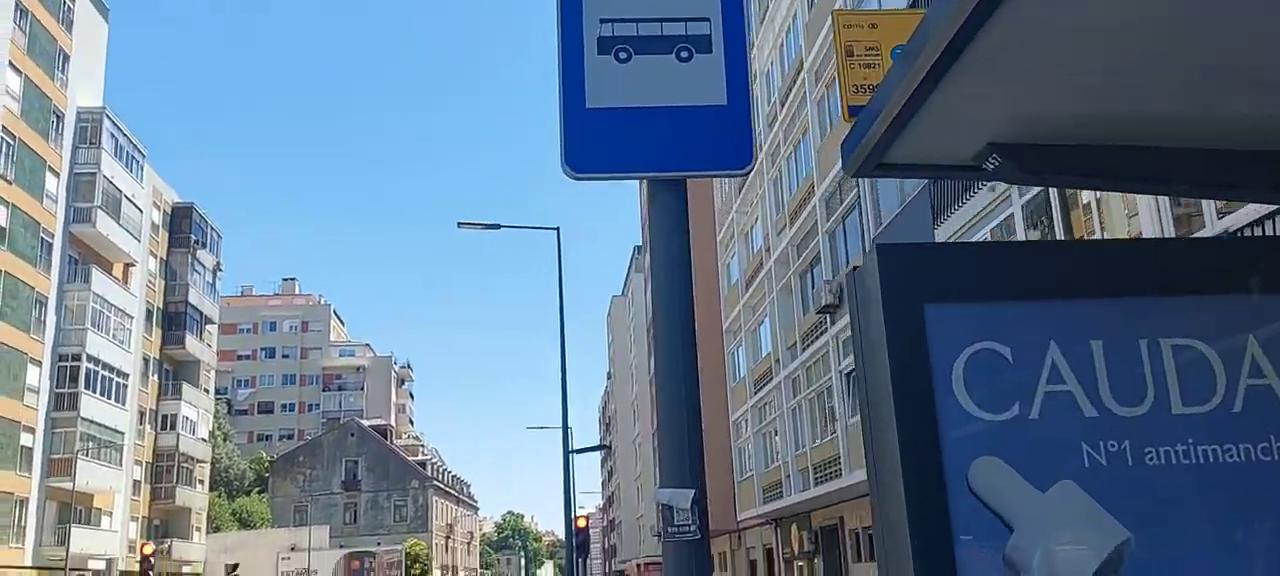paragem de veiculos de transporte colectivo de passageiros: (558, 0, 755, 180)
